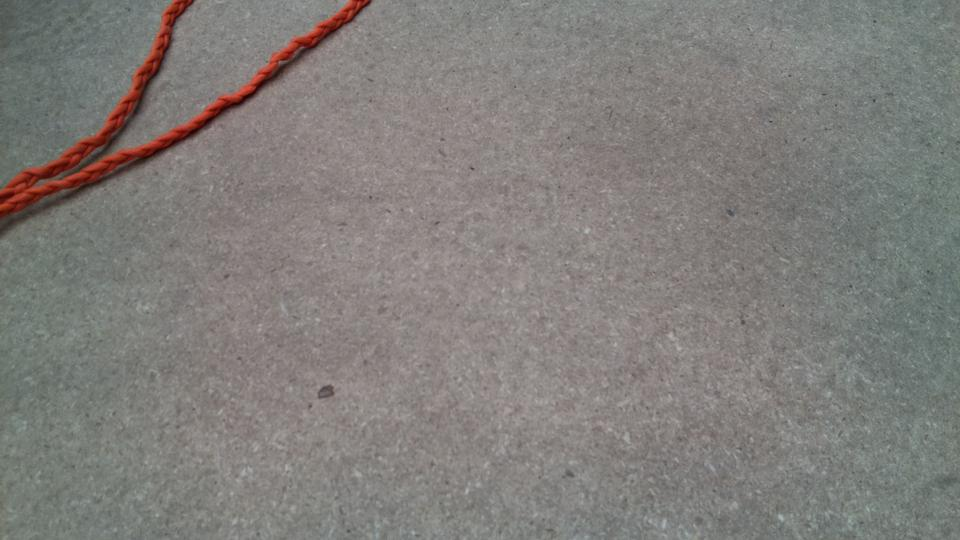rope: (1, 1, 361, 220)
